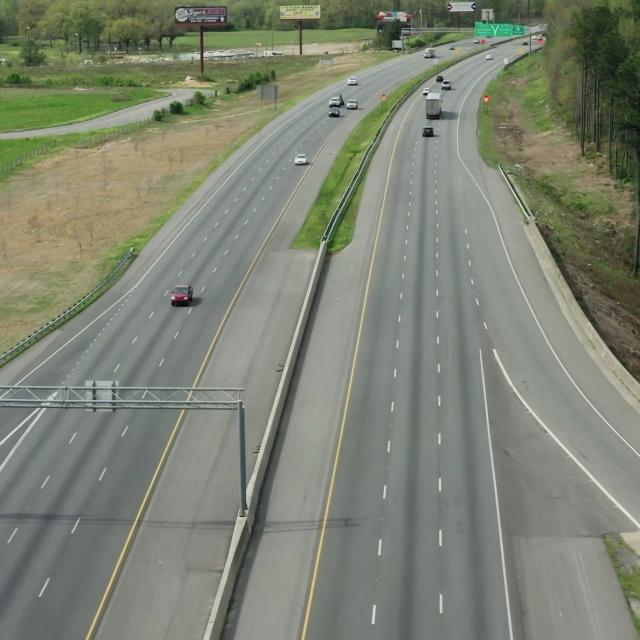Car: (170, 280, 198, 308)
